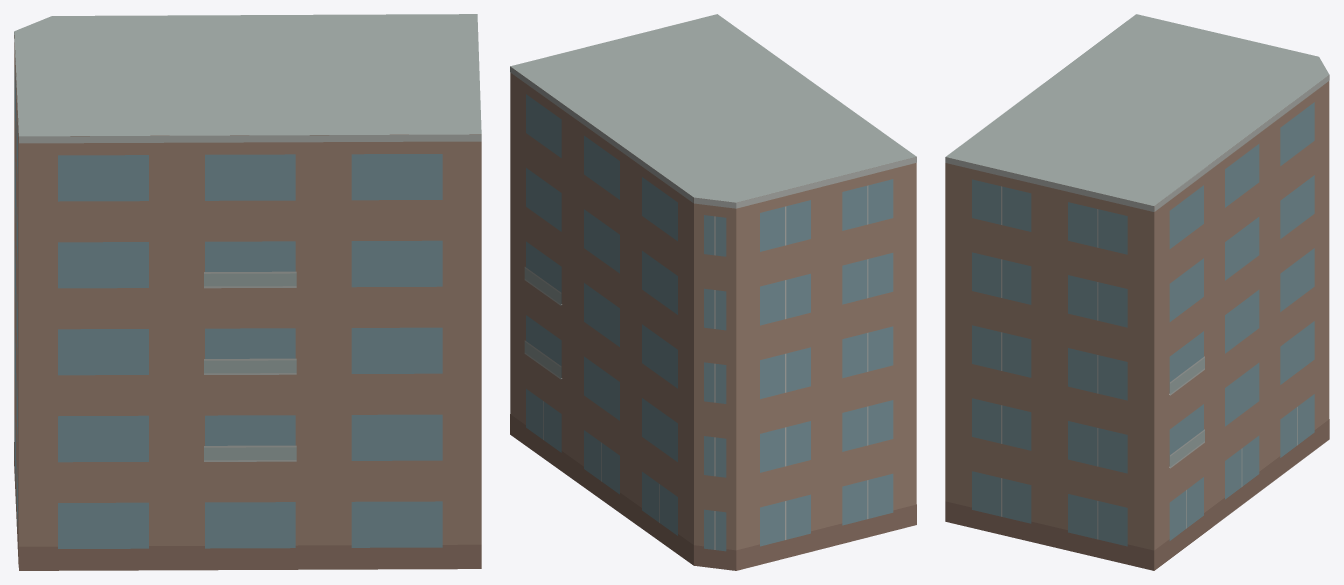
Rendered from survey-upis-32886241.glb.
The picture shows the model from 3 angles, left to right: view 1: azimuth 30°, elevation 25°; view 2: azimuth 150°, elevation 25°; view 3: azimuth 270°, elevation 25°; orthographic projection. The views are drawn at different scales.
Visible parts, largest first — view 1: survey-upis-32886241.tmp; view 2: survey-upis-32886241.tmp; view 3: survey-upis-32886241.tmp.
Boxes of the visible parts, left/top/right/bottom form: survey-upis-32886241.tmp: left=14, top=14, right=481, bottom=570; survey-upis-32886241.tmp: left=510, top=14, right=916, bottom=570; survey-upis-32886241.tmp: left=945, top=14, right=1329, bottom=570.
Bounding box in the file's own units: 16.91 × 14.95 × 14.28.
